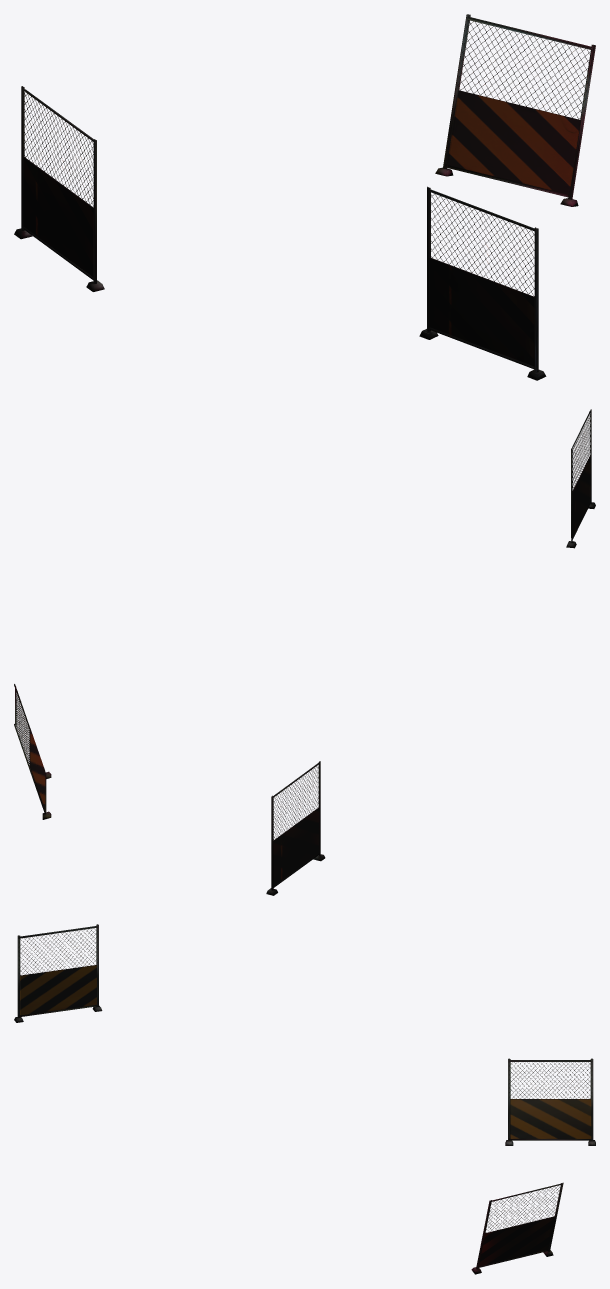
The picture shows the model from 3 angles, top to bottom: view 1: azimuth 30°, elevation 25°; view 2: azimuth 150°, elevation 25°; view 3: azimuth 270°, elevation 25°; orthographic projection. The views are drawn at different scales.
Visible parts, largest first — view 1: fence; view 2: fence; view 3: fence.
Part boxes in pixels (x1,y1,x2,y2): fence: (14,14,595,380); fence: (14,409,595,895); fence: (14,924,595,1274).
Bounding box in the file's own units: 12.85 × 8.95 × 21.86.
1 material, 1 textured.
